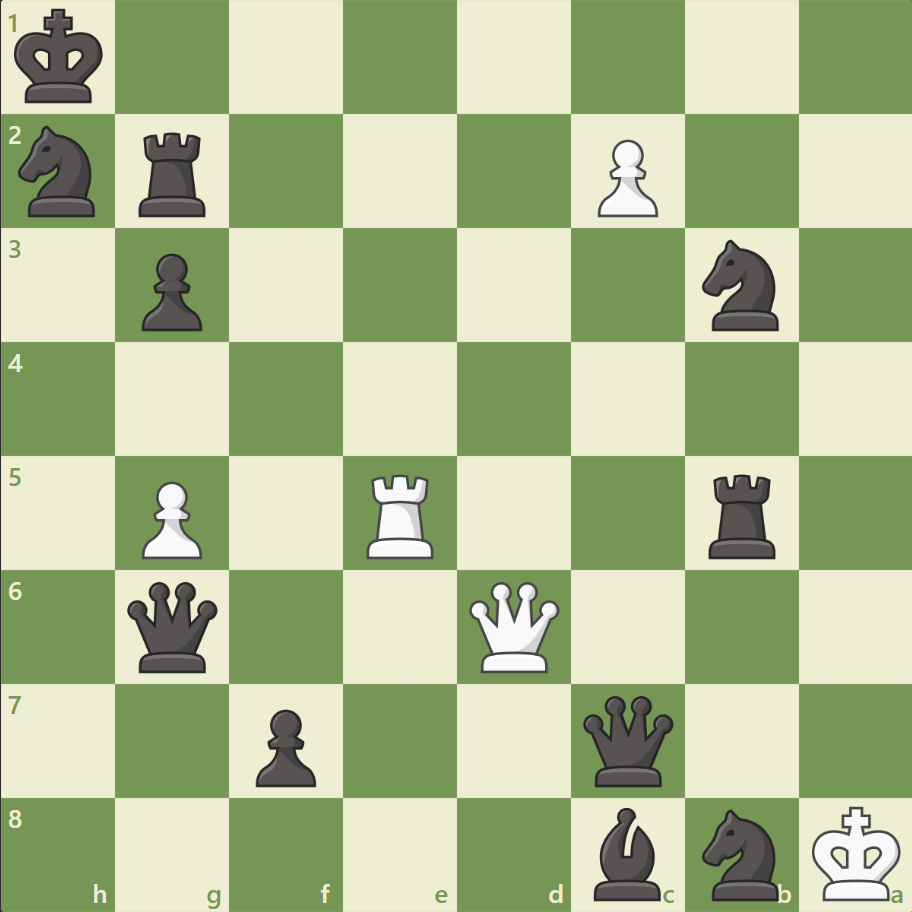K: (806, 798, 906, 906)
P: (133, 473, 208, 564), (588, 132, 662, 223)
Q: (464, 576, 563, 676)
R: (360, 466, 442, 563)
b: (585, 801, 669, 904)
k: (11, 4, 111, 112)
n: (692, 234, 789, 337), (692, 802, 789, 904), (11, 121, 108, 223)
p: (247, 700, 322, 791), (133, 246, 208, 337)
q: (124, 576, 223, 676), (578, 690, 677, 789)
r: (700, 466, 783, 563), (133, 125, 215, 222)
